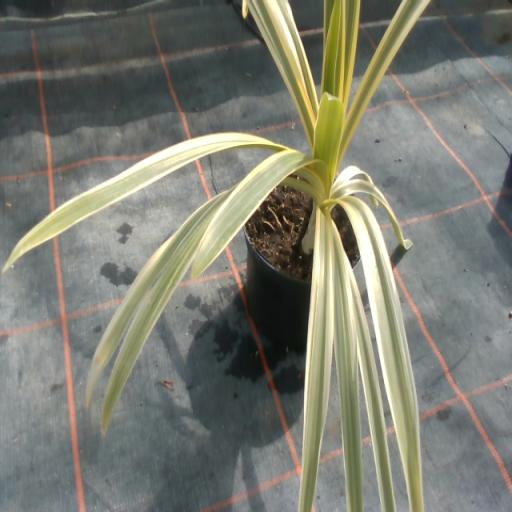Agapanthus-praecox: (2, 132, 283, 272), (101, 197, 225, 433), (86, 199, 219, 406), (344, 198, 422, 511), (193, 149, 315, 274), (341, 0, 429, 156), (350, 272, 395, 511), (247, 0, 318, 145), (299, 214, 332, 511), (334, 227, 362, 511), (328, 179, 411, 249), (314, 93, 343, 181), (322, 0, 345, 99), (341, 0, 360, 105), (335, 165, 372, 190), (324, 0, 334, 46)
